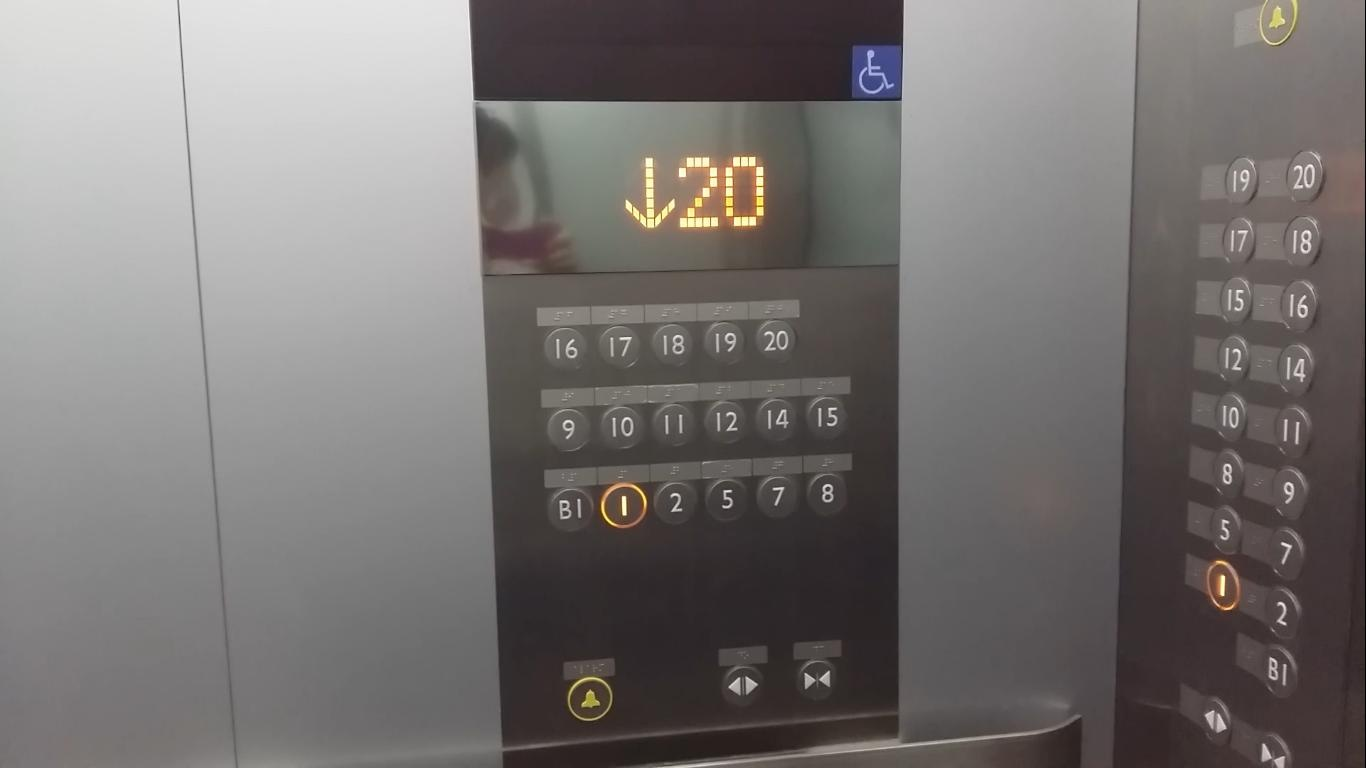1: (1200, 557, 1245, 613), (599, 481, 649, 531)
10: (1210, 390, 1253, 445), (597, 404, 645, 453)
11: (1270, 404, 1314, 459), (651, 402, 696, 450)
12: (1213, 333, 1255, 388), (702, 400, 749, 448)
14: (1273, 341, 1318, 401), (754, 397, 799, 445)
15: (805, 396, 850, 445), (1216, 273, 1255, 327)
16: (1277, 278, 1320, 336), (543, 326, 587, 373)
17: (596, 324, 642, 372), (1218, 214, 1259, 267)
18: (1279, 212, 1323, 272), (649, 323, 695, 368)
19: (1219, 153, 1262, 209), (702, 319, 747, 367)
2: (1259, 585, 1306, 642), (653, 480, 698, 529)
20: (1281, 148, 1327, 205), (752, 318, 799, 365)
5: (702, 475, 751, 526), (1204, 503, 1247, 557)
7: (1261, 523, 1309, 581), (755, 473, 801, 522)
8: (806, 471, 850, 519), (1209, 448, 1247, 499)
9: (1265, 464, 1313, 517), (544, 407, 593, 456)
B1: (1256, 641, 1303, 700), (545, 486, 595, 540)
CH: (849, 38, 907, 106)
alarm: (1254, 1, 1302, 52), (566, 676, 615, 725)
close: (792, 659, 841, 705), (1253, 726, 1299, 768)
led: (470, 94, 907, 282)
open: (1195, 694, 1236, 751), (718, 663, 766, 711)
